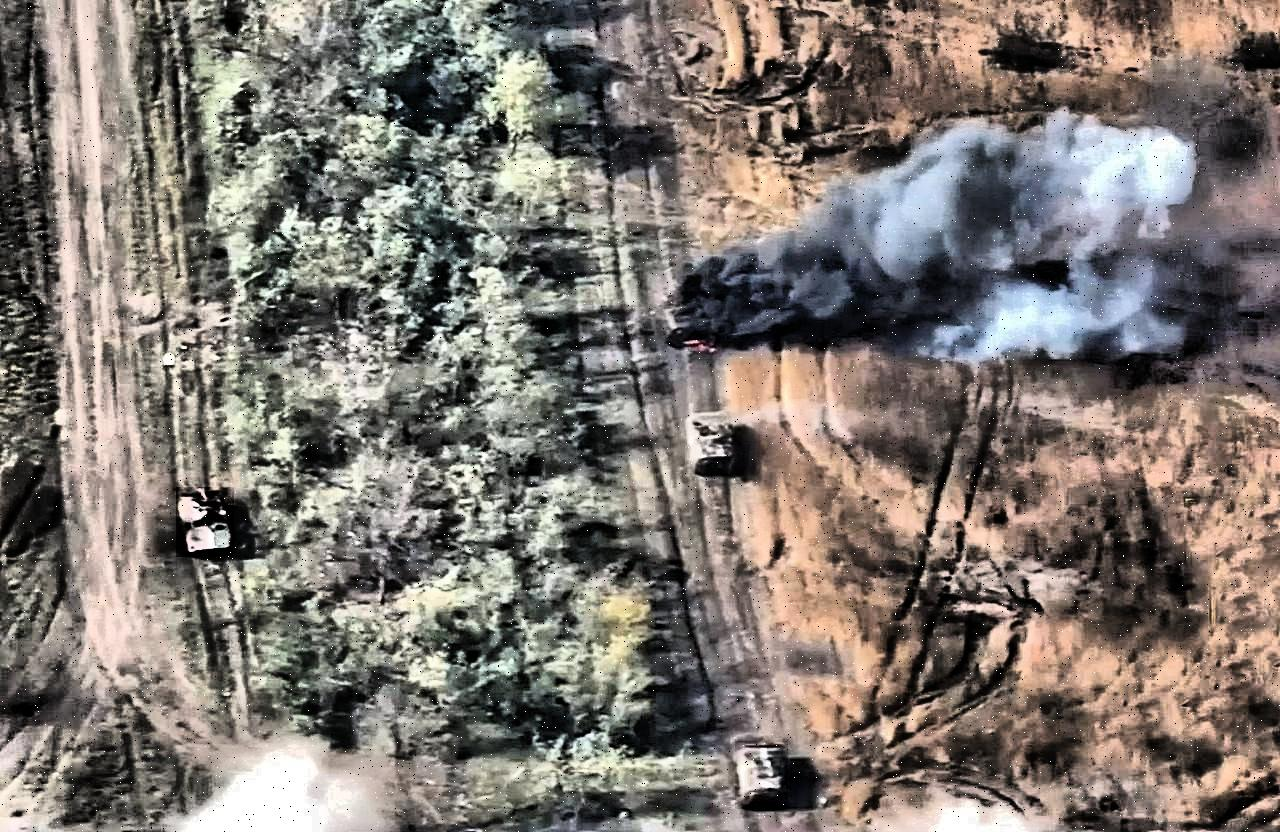military-vehicle: (176, 487, 234, 557), (736, 741, 789, 809), (686, 410, 739, 477)
